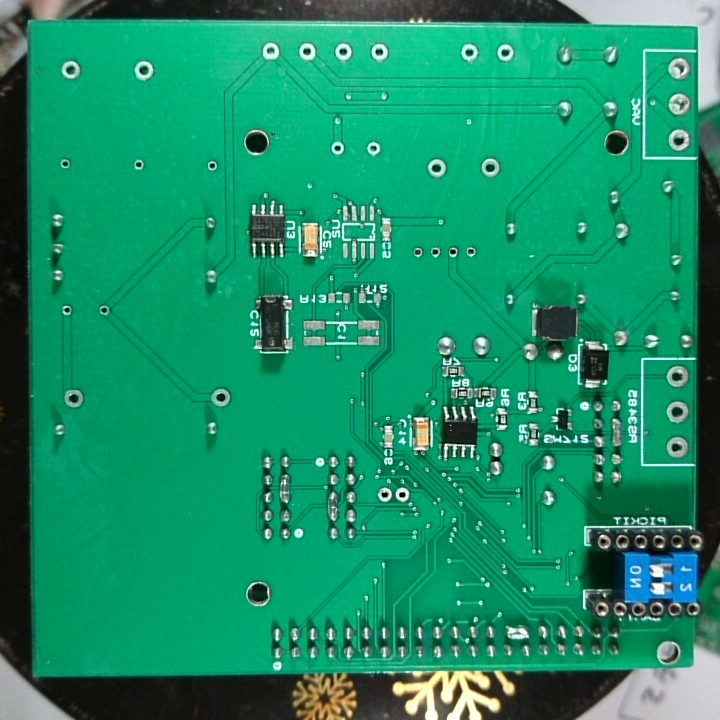F: (663, 363, 693, 391), (665, 126, 693, 155), (665, 92, 694, 119), (664, 434, 691, 461), (665, 398, 691, 426), (665, 55, 693, 81), (60, 386, 87, 412), (57, 58, 85, 83), (423, 157, 451, 182), (208, 386, 235, 411), (479, 154, 503, 181), (132, 59, 157, 84), (368, 40, 391, 65), (458, 40, 482, 63), (494, 40, 517, 63), (297, 40, 320, 63), (334, 41, 356, 64), (260, 40, 282, 63), (394, 481, 413, 506), (328, 137, 348, 159), (94, 299, 114, 320), (363, 139, 384, 159), (461, 243, 480, 263), (376, 484, 394, 505), (58, 302, 77, 320), (427, 243, 444, 263), (445, 242, 461, 263), (57, 155, 76, 172), (203, 158, 222, 175), (131, 156, 148, 174), (409, 244, 426, 261)
P: (502, 623, 531, 643), (324, 489, 341, 523), (278, 471, 293, 506), (610, 415, 624, 452)
